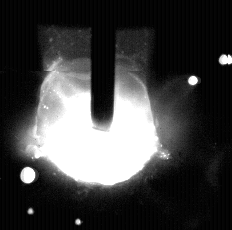arame: (91, 0, 116, 132)
poca: (32, 0, 159, 230)
